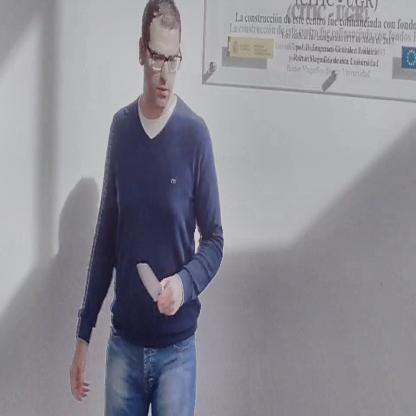knife: (131, 254, 169, 314)
